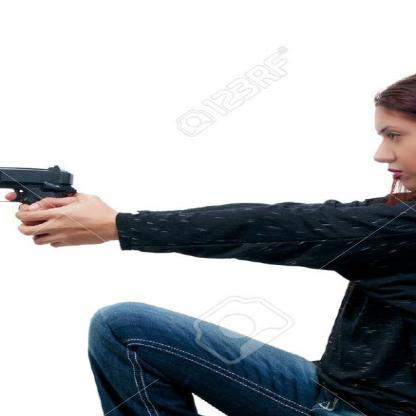gun: (0, 152, 102, 256)
